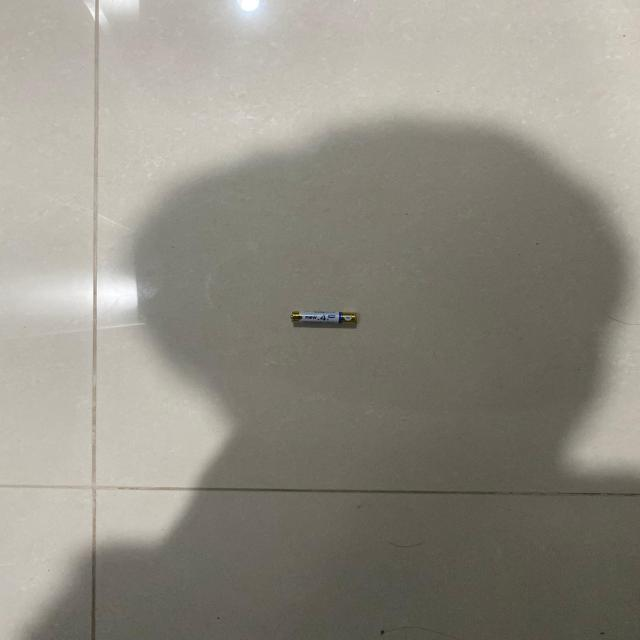AA: (289, 310, 357, 327)
